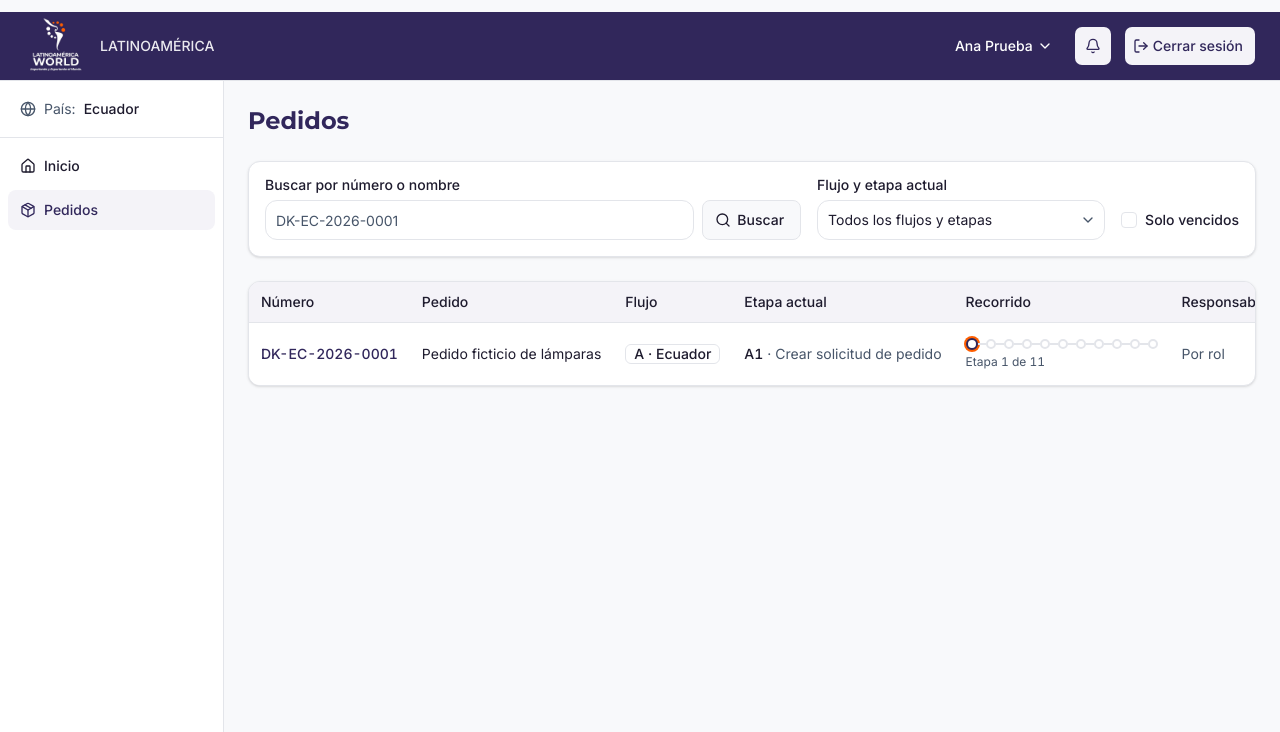
Lista de pedidos › busca por número o nombre en el servidor y deja el filtro en la dirección
Expected: the link "DK-EC-2026-0001" is shown, [261,344,398,362]
Type "DK-EC-2026-9999" into the search field labelled "Buscar por número o nombre".
click(480, 220); type("DK-EC-2026-9999")  # box [265,200,694,240]
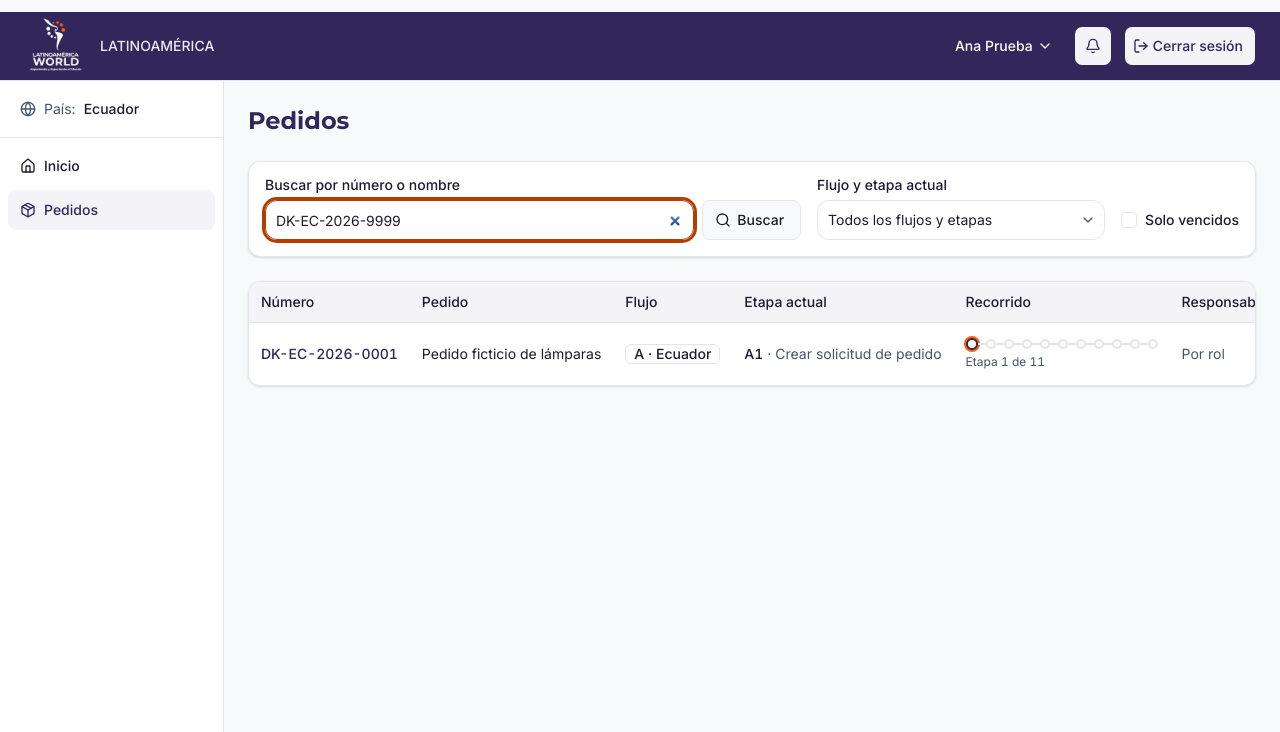
Click the button "Buscar".
click(752, 220)  # box [702,200,801,240]
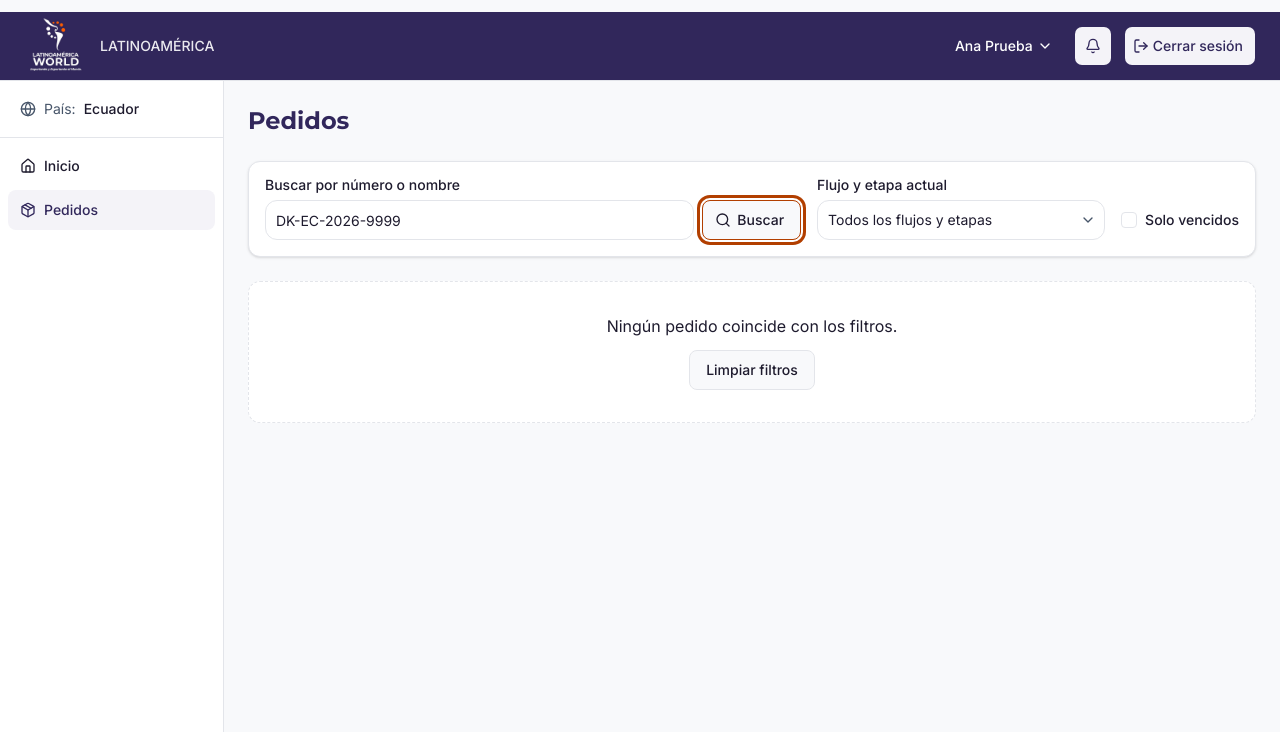
Expected: the text "Ningún pedido coincide con los filtros." is shown, [607,314,897,338]
Click the button "Limpiar filtros".
click(752, 370)  # box [689,350,815,390]
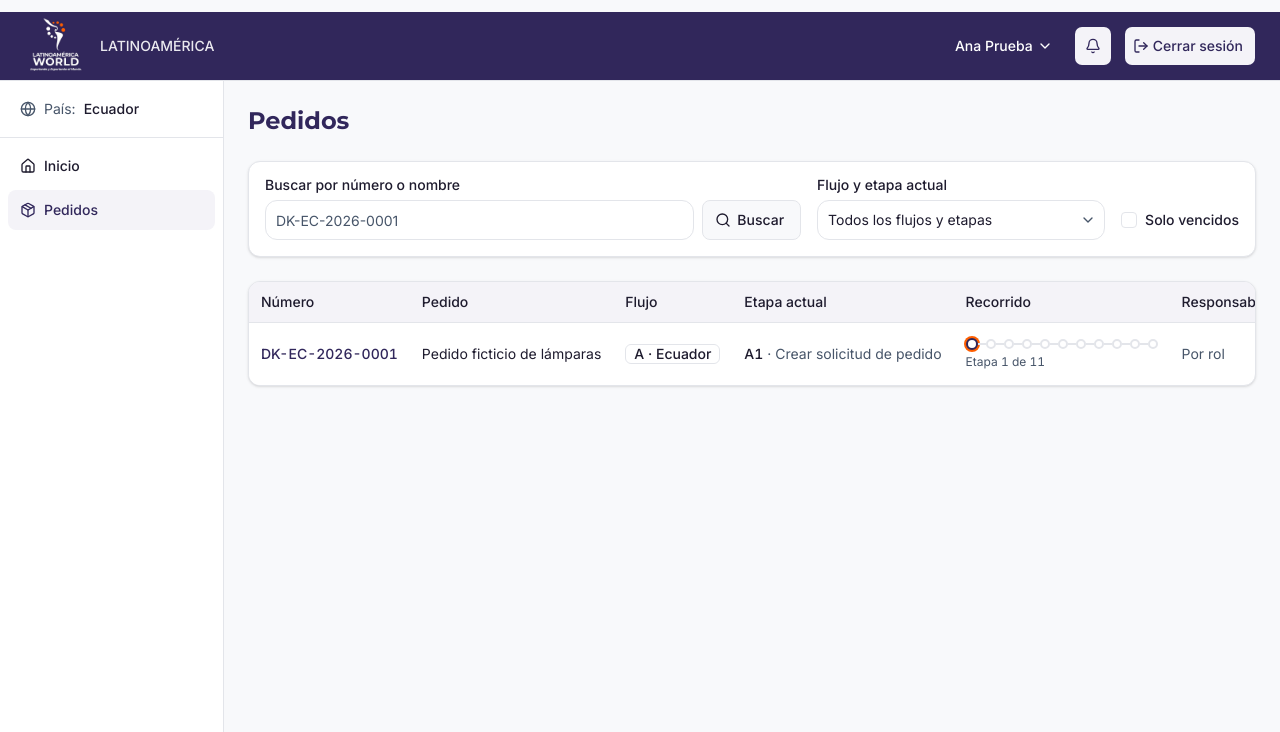
Expected: the link "DK-EC-2026-0001" is shown, [261,344,398,362]
